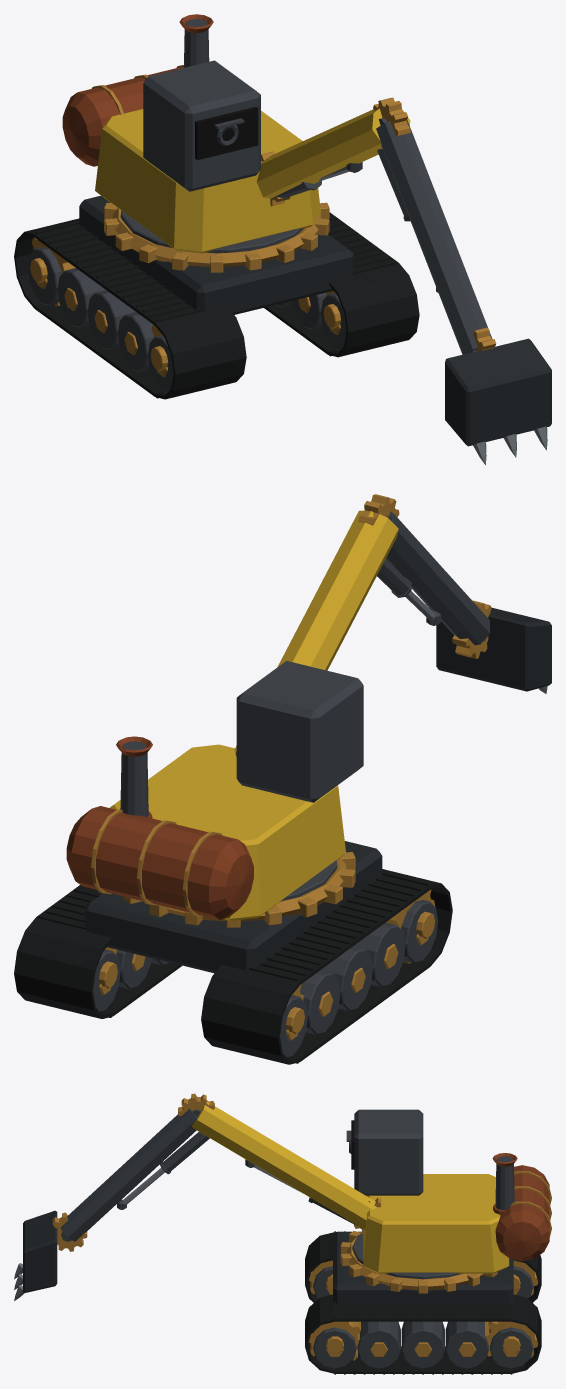
File: cog_digger.fbx
3 renders of one model, top to bottom at view 1: azimuth 30°, elevation 25°; view 2: azimuth 150°, elevation 25°; view 3: azimuth 270°, elevation 25°, orthographic. The views are drawn at different scales.
Visible parts, largest first — view 1: Body; view 2: Body; view 3: Body.
Part boxes in pixels (x1,y1,x2,y2): Body: [14, 14, 551, 464]; Body: [14, 494, 551, 1064]; Body: [14, 1093, 551, 1374].
Size of the model in its own units: 9.6 by 12.45 by 24.99.
2 materials, 1 textured.
